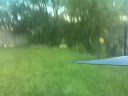window: (0, 21, 55, 96), (63, 77, 91, 96), (60, 43, 83, 56), (115, 79, 128, 96), (112, 59, 128, 63)
